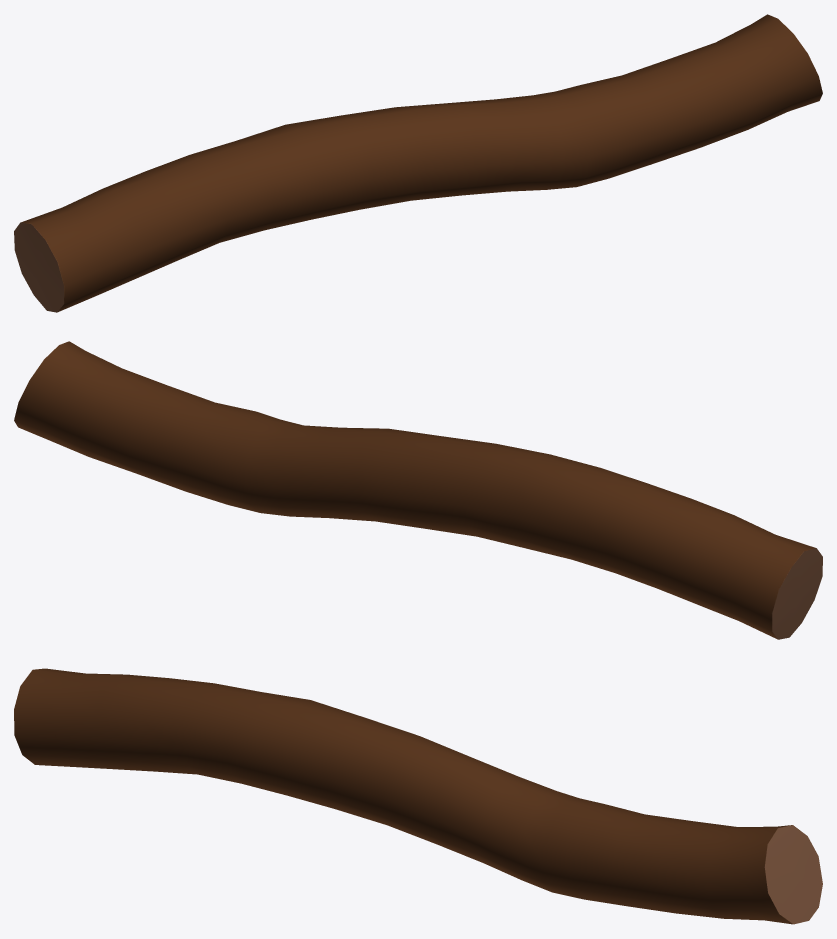
The model's file is Log3.FBX.
3 views of the same model, one above another, from view 1: azimuth 30°, elevation 25°; view 2: azimuth 150°, elevation 25°; view 3: azimuth 330°, elevation 25° (orthographic).
Visible parts, largest first — view 1: log3_LP; view 2: log3_LP; view 3: log3_LP.
Boxes of the visible parts, x1,y1,x2,y2 form: log3_LP: [14, 14, 822, 312]; log3_LP: [14, 341, 822, 639]; log3_LP: [14, 668, 822, 924].
Size of the model in its own units: 33.45 by 4.93 by 3.77.
1 material, 1 textured.
